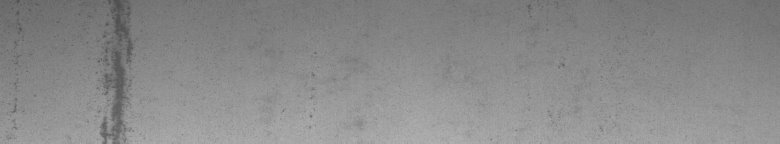hd: (88, 4, 136, 136)
